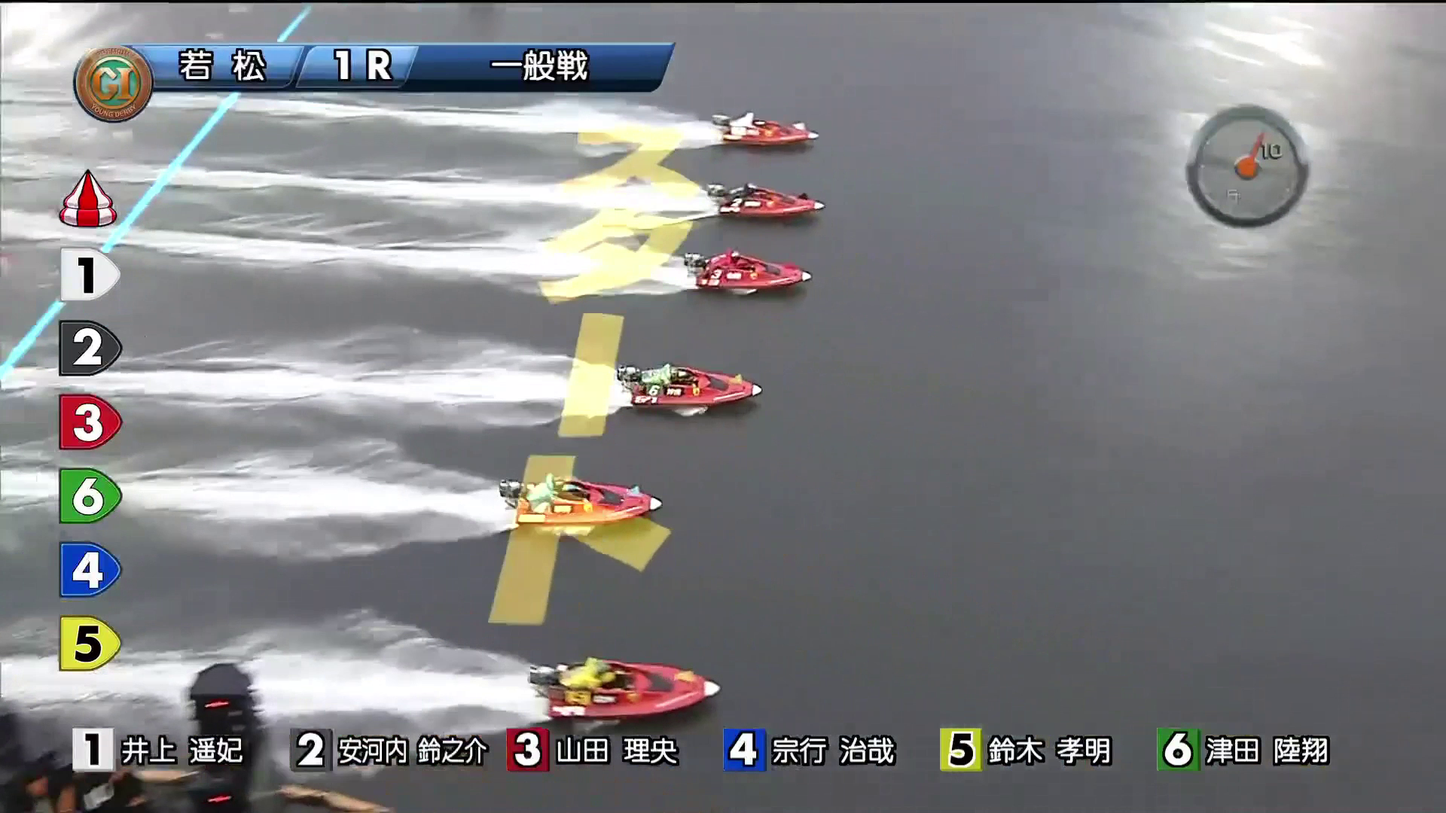１号艇: (749, 109, 807, 156)
２号艇: (716, 187, 819, 225)
３号艇: (692, 255, 817, 296)
４号艇: (656, 360, 761, 403)
５号艇: (528, 472, 648, 527)
６号艇: (545, 657, 703, 714)
